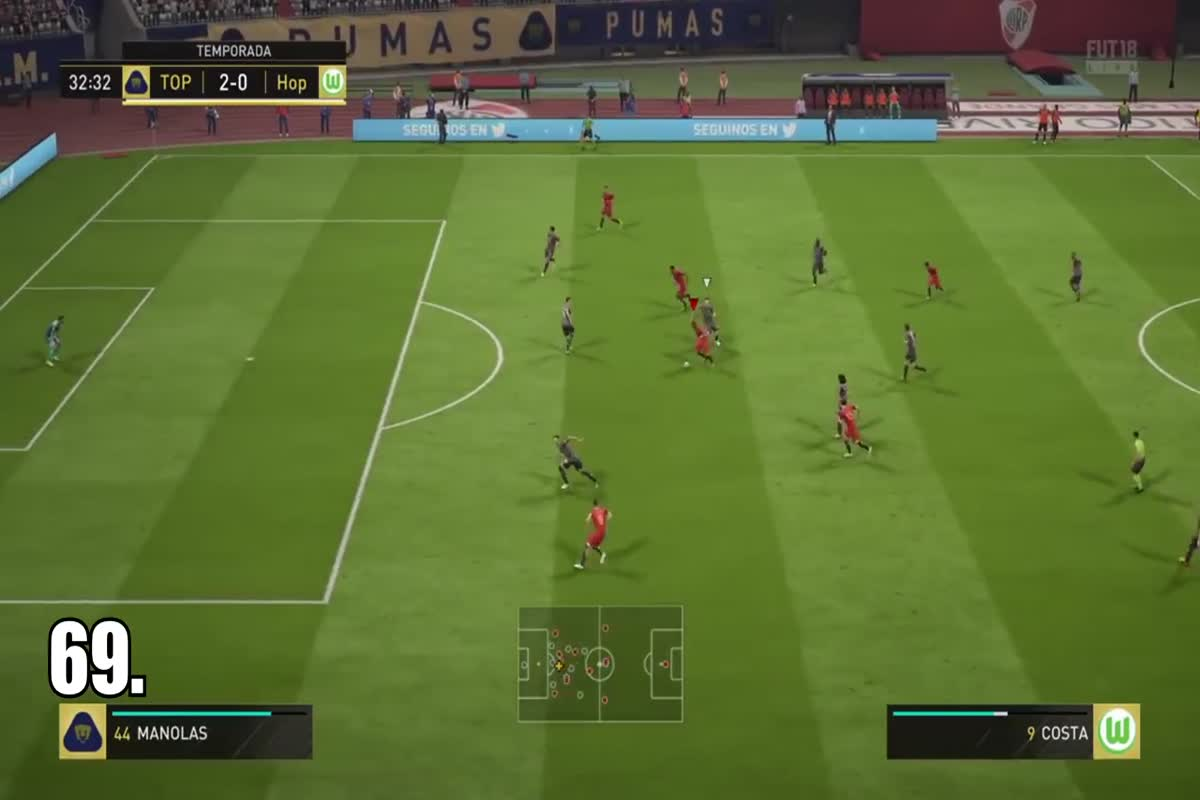ball: (677, 355, 697, 375)
